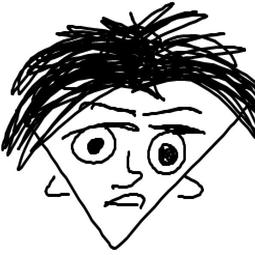ear: (36, 169, 74, 204), (174, 176, 216, 204)
eye: (66, 124, 118, 171), (145, 128, 189, 180)
eyebrow: (139, 102, 209, 120), (88, 100, 135, 119)
nose: (110, 149, 145, 190)
open_mouth: (99, 190, 149, 215)
